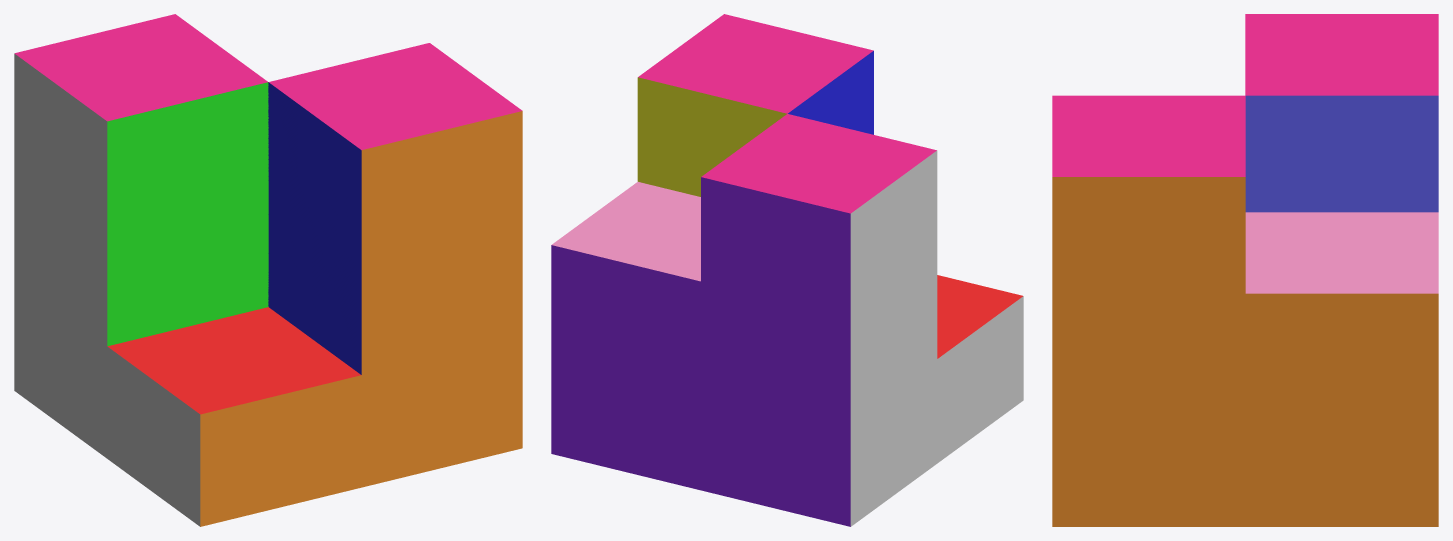
3 views of the same model, side by side, from view 1: azimuth 30°, elevation 25°; view 2: azimuth 150°, elevation 25°; view 3: azimuth 270°, elevation 25° (orthographic). The views are drawn at different scales.
Visible parts, largest first — view 1: G-Object.003; view 2: G-Object.003; view 3: G-Object.003.
Boxes of the visible parts, x1,y1,x2,y2 form: G-Object.003: [14, 14, 522, 526]; G-Object.003: [551, 14, 1023, 526]; G-Object.003: [1052, 14, 1438, 526].
Size of the model in its own units: 0.6096 by 0.6096 by 0.6096.
